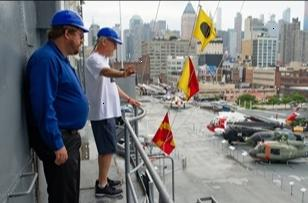helmet: (48, 10, 90, 32), (96, 26, 124, 42)
no_wear: (87, 57, 118, 112)
